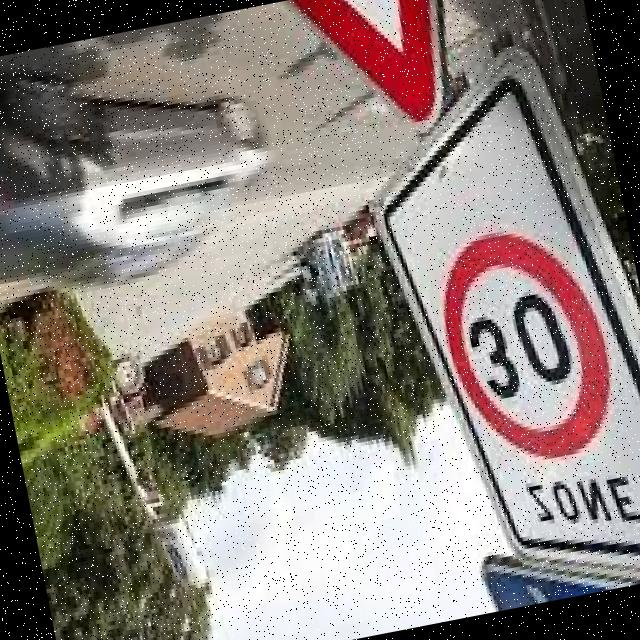speed_limit_30: (420, 210, 630, 485)
